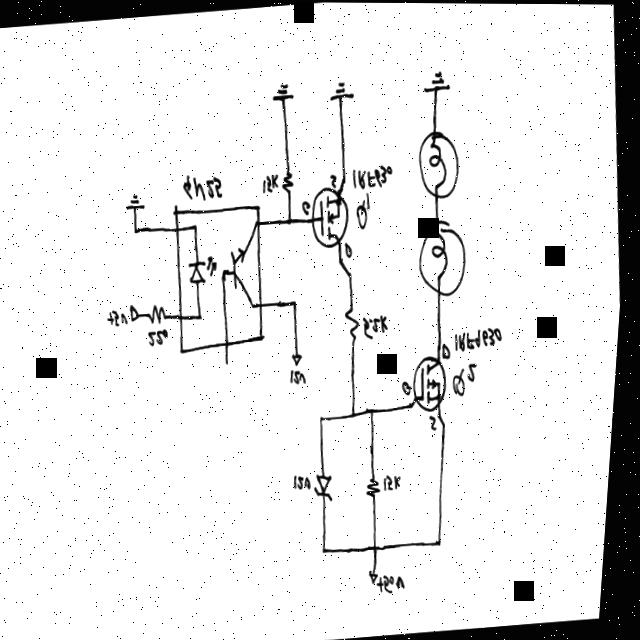diode: (319, 470, 338, 500)
ground: (421, 67, 450, 95), (328, 79, 356, 104), (271, 80, 294, 102), (126, 192, 147, 212)
junction: (377, 540, 386, 554), (372, 402, 380, 417), (287, 213, 295, 227), (293, 296, 301, 309), (441, 535, 449, 547), (354, 407, 361, 420), (322, 412, 329, 424), (327, 543, 334, 555), (342, 174, 349, 185), (350, 267, 356, 278), (340, 255, 346, 266), (134, 225, 140, 235), (413, 400, 419, 409), (441, 410, 446, 418), (446, 420, 451, 427)
resistor: (347, 303, 363, 342), (148, 302, 170, 325), (370, 474, 386, 496), (282, 170, 296, 194)
source: (132, 302, 143, 325), (294, 350, 307, 365), (375, 567, 385, 584)
terminal: (227, 352, 234, 368)
text: (456, 323, 506, 353), (183, 171, 225, 202), (352, 161, 393, 190), (455, 359, 482, 397), (364, 311, 392, 340), (383, 570, 413, 595), (357, 190, 373, 229), (150, 326, 172, 347), (262, 171, 281, 194), (388, 471, 407, 491), (298, 472, 317, 491), (110, 308, 130, 326), (293, 368, 311, 385), (406, 377, 416, 395), (346, 240, 355, 260), (433, 412, 442, 430), (444, 342, 454, 358), (303, 198, 312, 214), (330, 172, 339, 187)
transistor: (312, 184, 351, 248), (416, 352, 451, 412)
